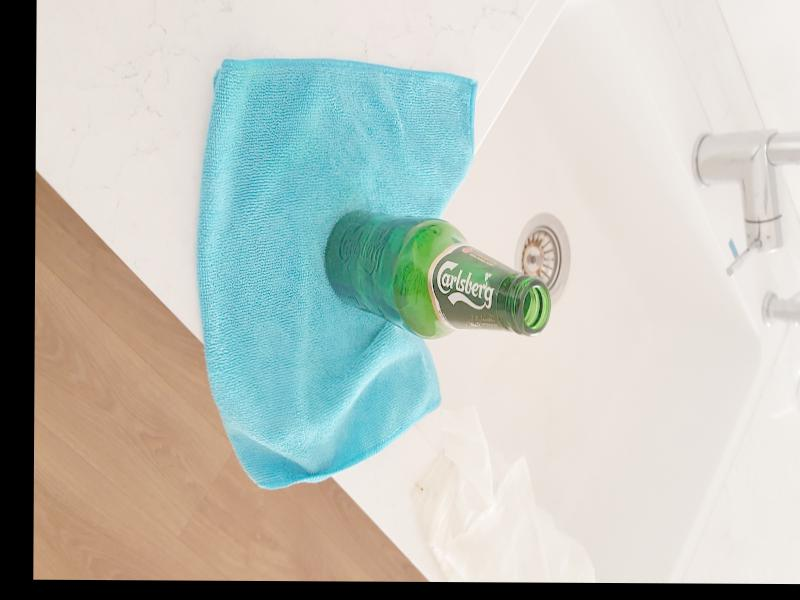Beer: (320, 213, 548, 340)
